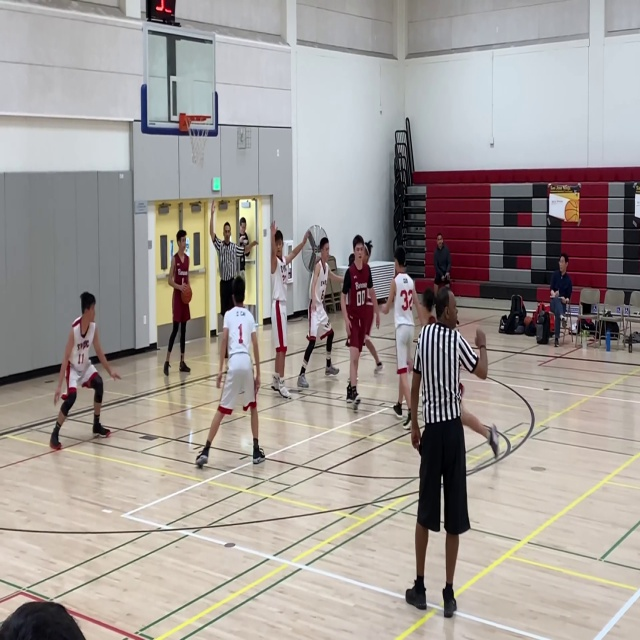Basketball: (180, 284, 192, 304)
